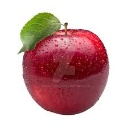apple: (19, 25, 111, 117)
